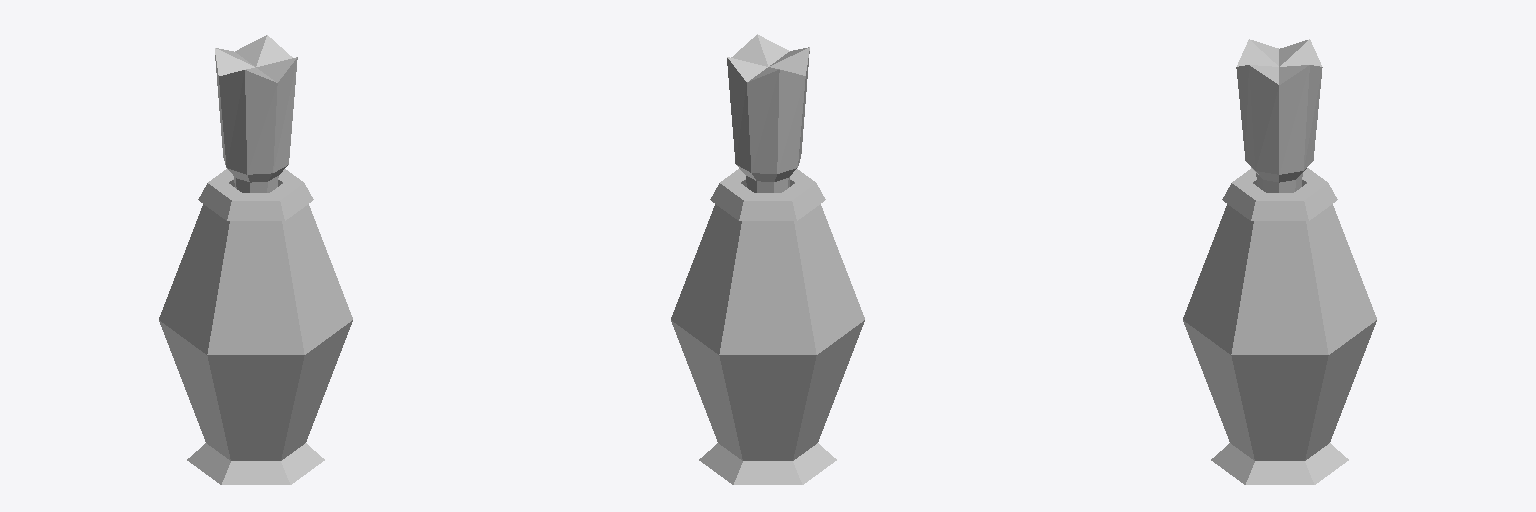
The model's file is potion4__1.obj.
The picture shows the model from 3 angles: view 1: azimuth 30°, elevation 25°; view 2: azimuth 150°, elevation 25°; view 3: azimuth 270°, elevation 25°; orthographic projection.
Visible parts, largest first — view 1: grp1; view 2: grp1; view 3: grp1.
Part boxes in pixels (left/top/right/bottom): grp1: left=159, top=35, right=352, bottom=484; grp1: left=671, top=34, right=864, bottom=484; grp1: left=1183, top=39, right=1376, bottom=484.
Bounding box in the file's own units: 8.55 × 22.81 × 9.87.